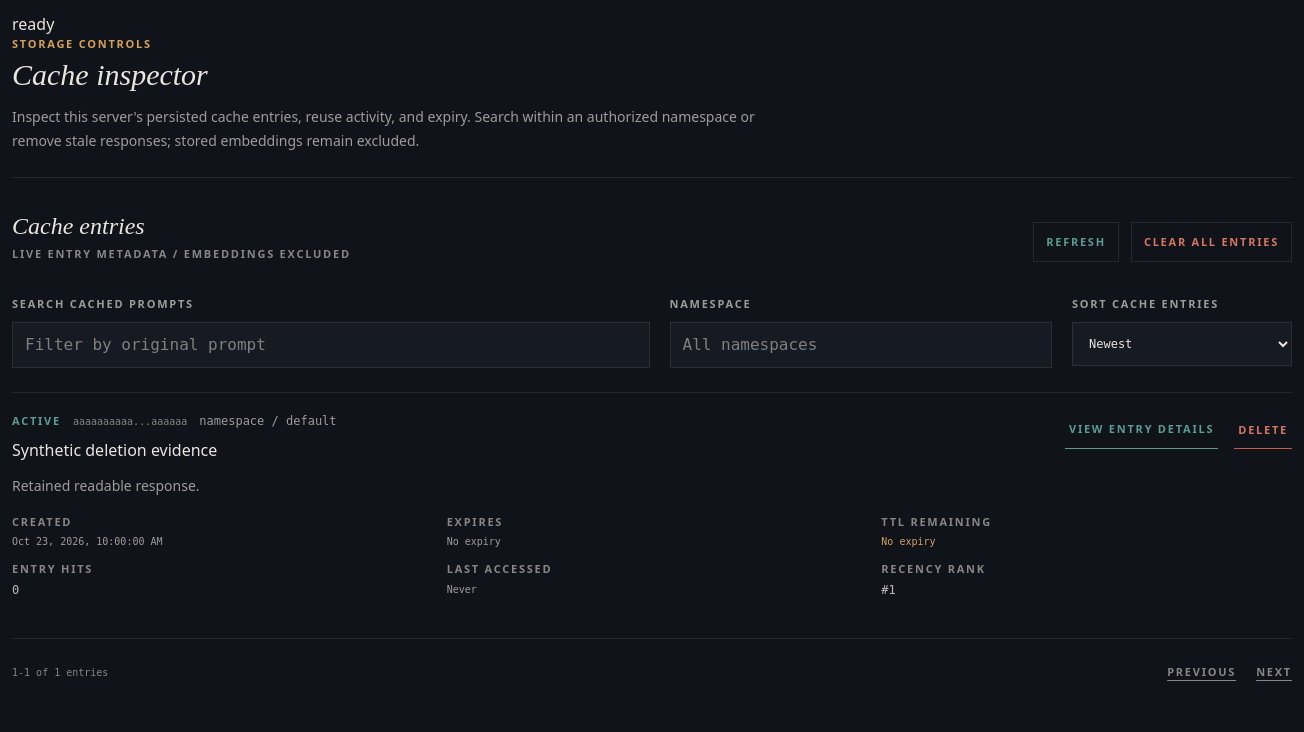
it: confirmed and unconfirmed cache mutation outcomes › keeps clear success and invalidates only cache data
expect the heading "Synthetic deletion evidence" is shown: met, box [12,438,217,460]
expect the text named "Readings state" reads "ready": met, box [12,13,54,35]
What coordinates should you click on to do the following:
click the button "Clear all entries"
I would click on:
 (1211, 242)
Its box is [1131,222,1292,262].
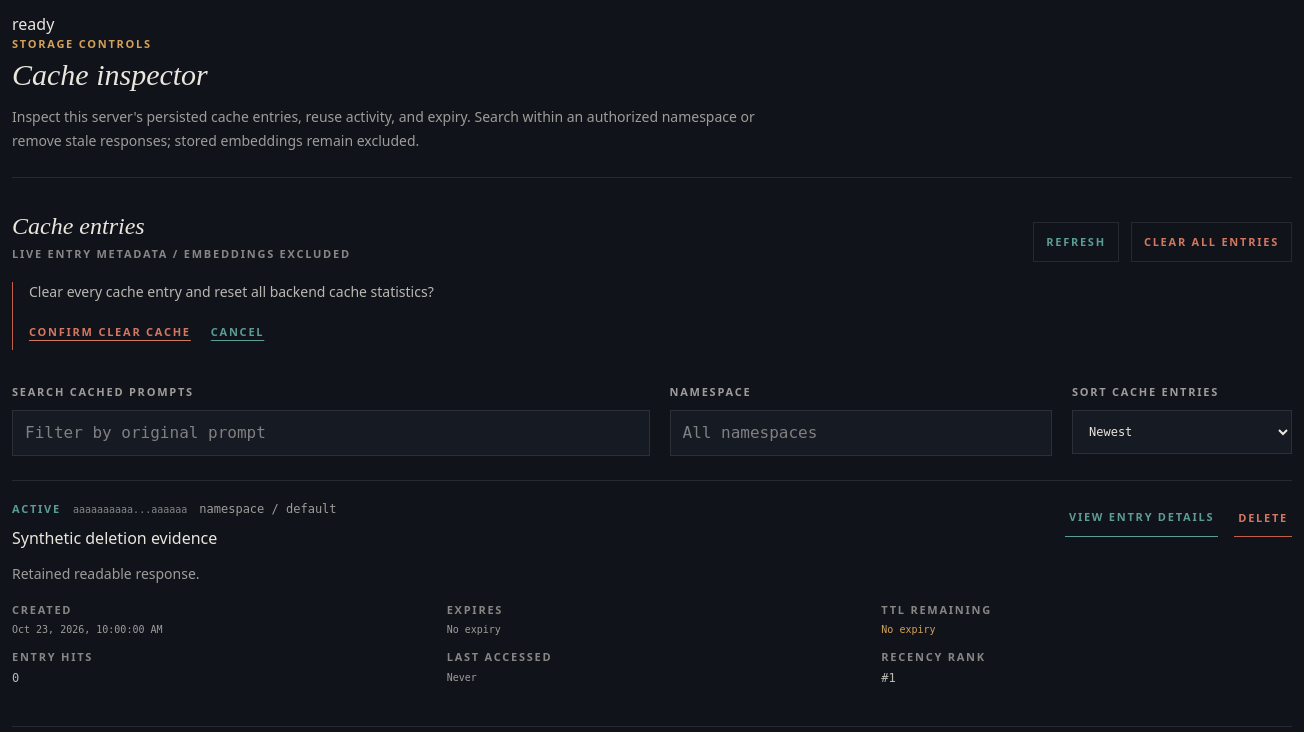
What coordinates should you click on to do the following:
click the button "Confirm clear cache"
I would click on:
 (110, 332)
Its box is [29,314,191,350].
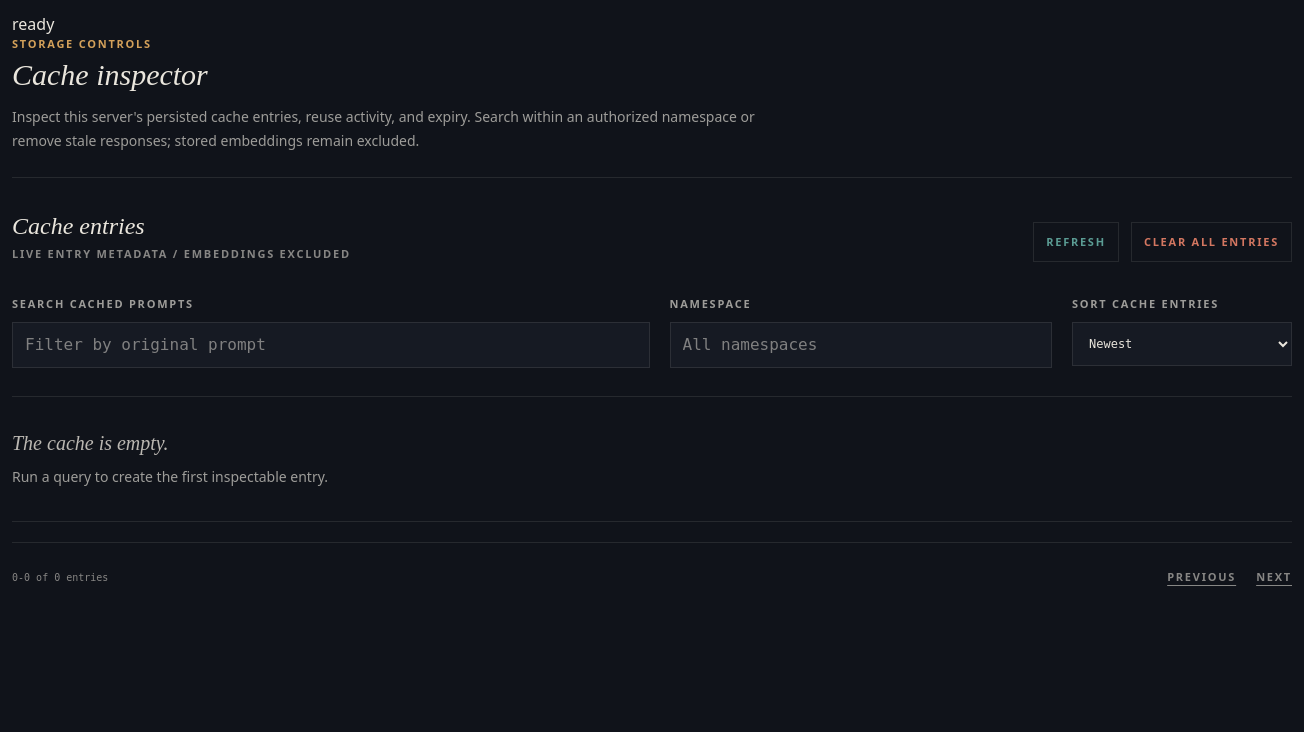
expect the text "The cache is empty." is shown: met, box [12,432,169,454]
